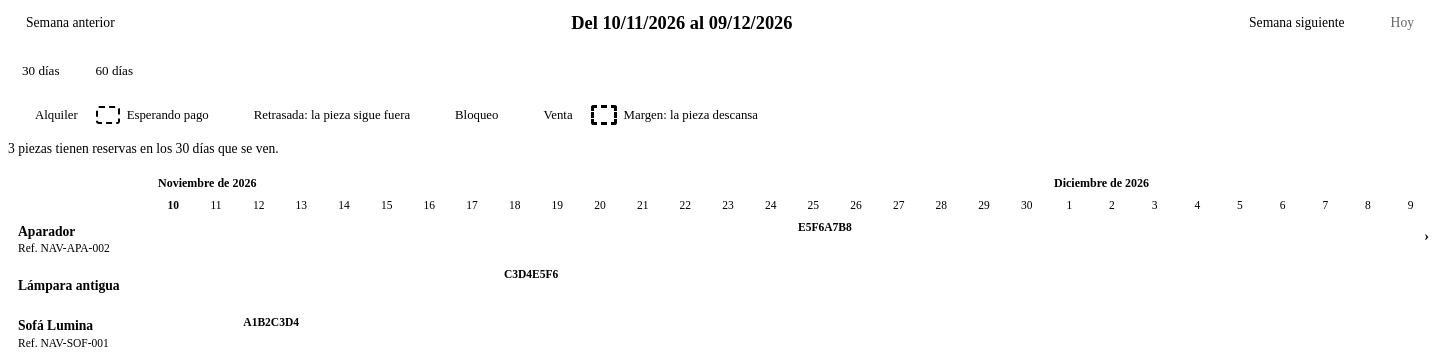
Test: VistaGeneral: la rejilla › el resumen dice los días que se ven
What coordinates should you click on to do the following:
click the button "60 días"
I would click on:
 (114, 71)
Its box is [82, 55, 147, 87].
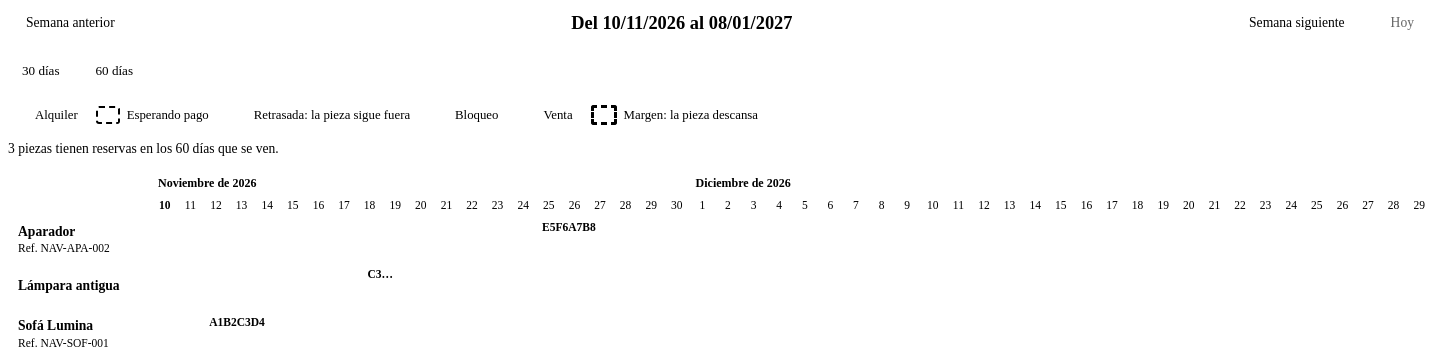
Result: the text "3 piezas tienen reservas en los 60 días que se ven." is shown at [8, 141, 279, 156]
